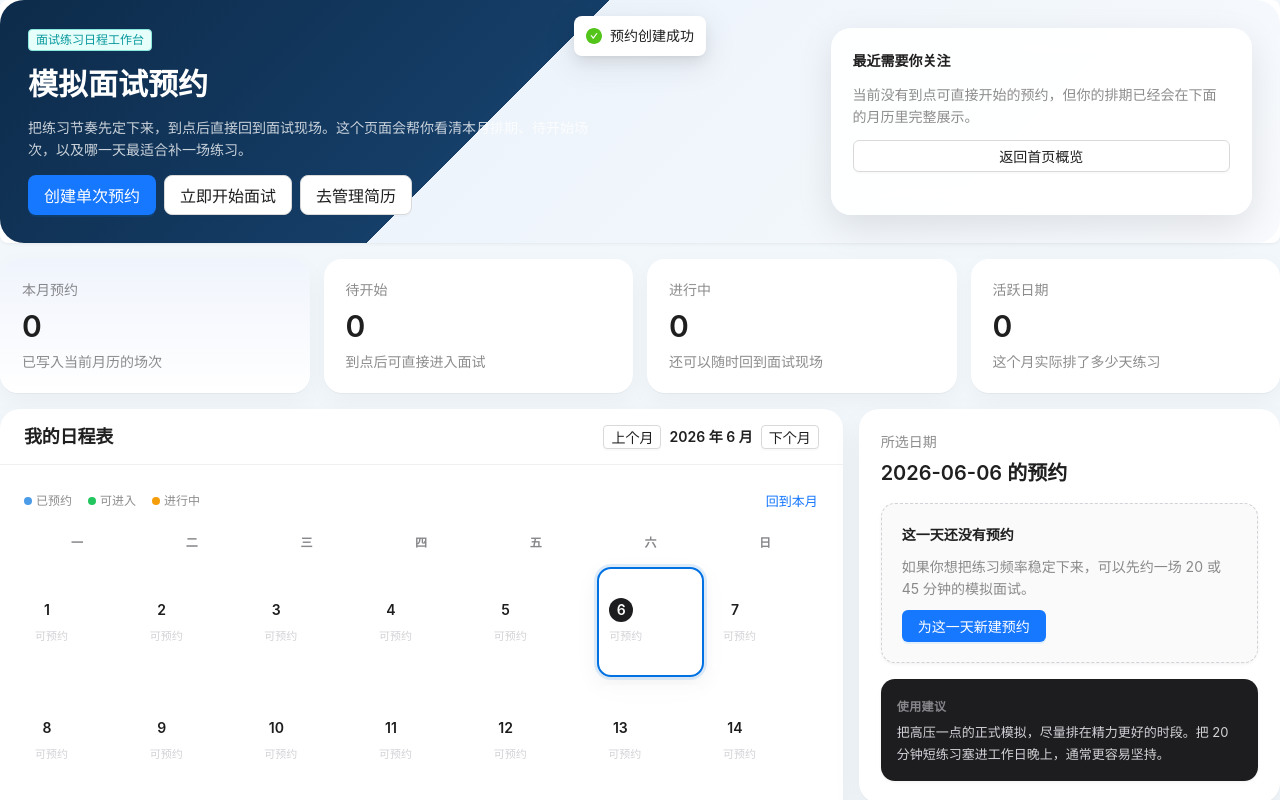
Test: InterviewSchedulePage › should not allow creating schedule for past empty date
The width and height of the screenshot is (1280, 800).
Expected: the text "这一天还没有预约" is shown, [902, 526, 1014, 543]
Click the button with aria-label "2026-06-01 本月日期 无预约" at (77,622), box [24, 567, 131, 677]
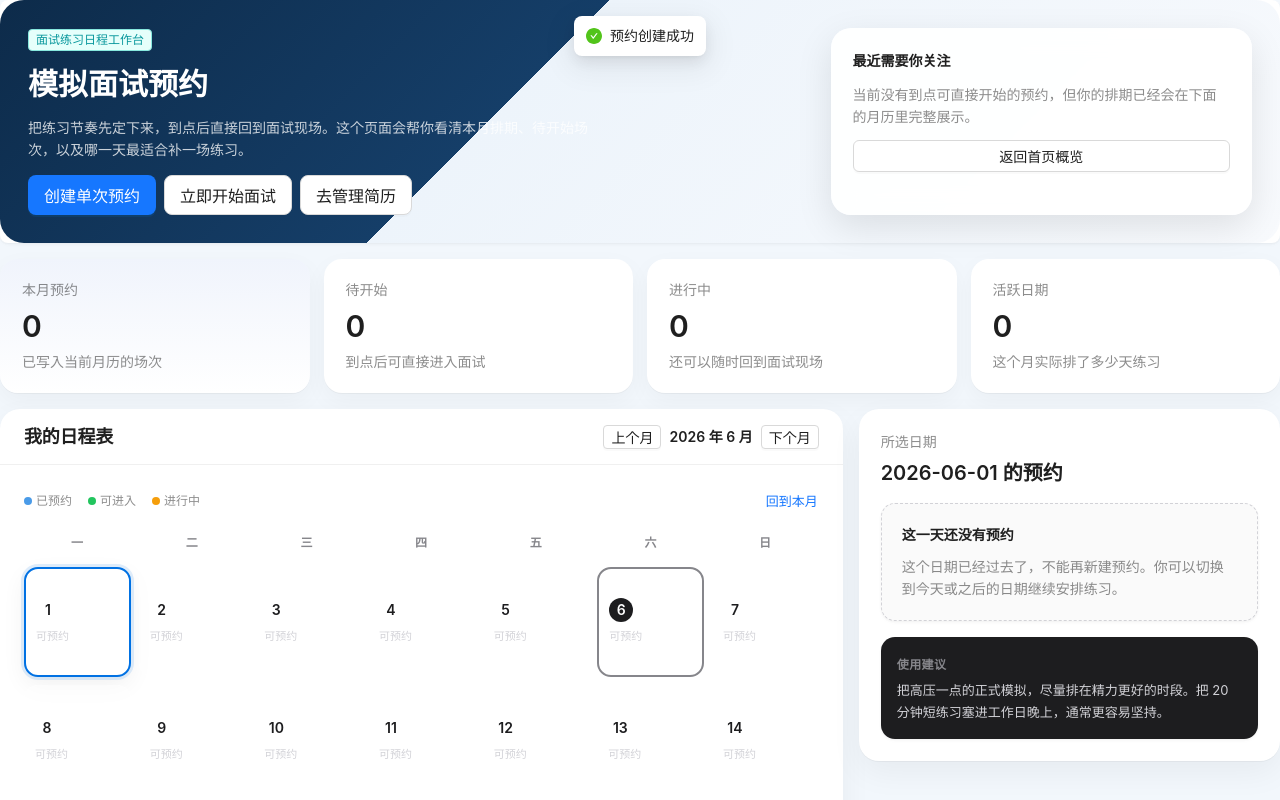
Now the text "这个日期已经过去了，不能再新建预约。你可以切换到今天或之后的日期继续安排练习。" is shown, box [902, 558, 1224, 597]
Now the button "为这一天新建预约" is gone
